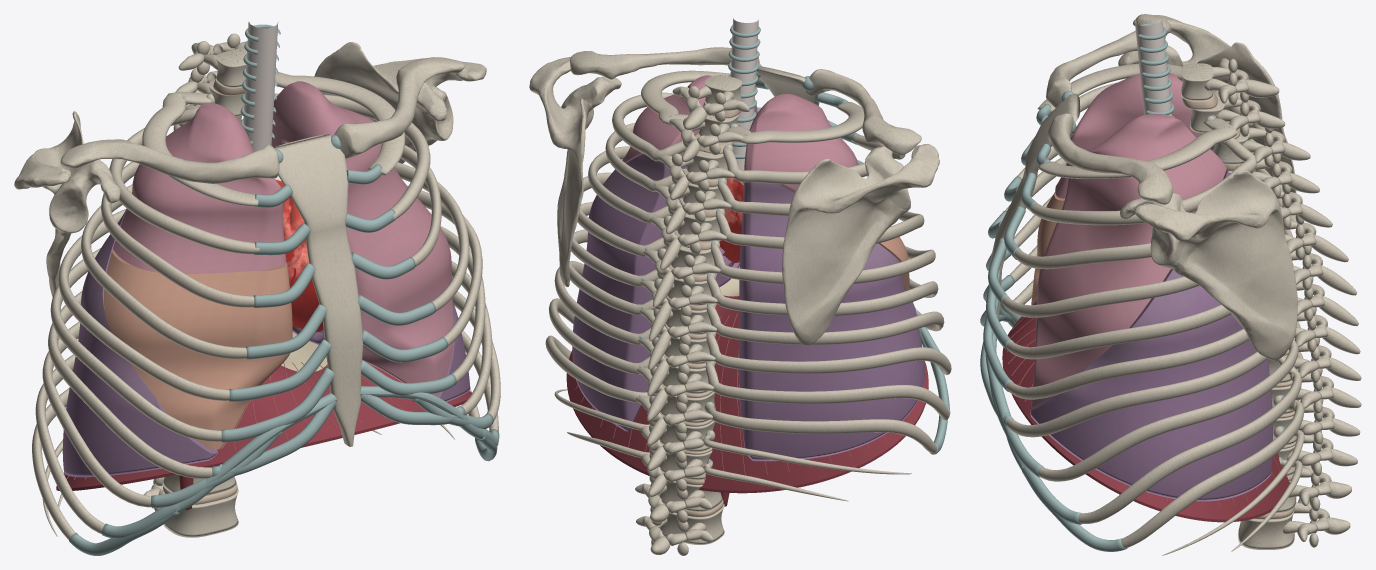
Rendered from torax-apices-nivelados.glb.
3 renders of one model, left to right at view 1: azimuth 30°, elevation 25°; view 2: azimuth 150°, elevation 25°; view 3: azimuth 270°, elevation 25°, orthographic. The views are drawn at different scales.
Parts seen in each view (by area): view 1: lobo_medio_D, lobo_superior_E, lobo_superior_D, caixa_toracica_osso, lobo_inferior_D, coluna_osso, diafragma_diafragma, escapula_D, escapula_E, clavicula_D, clavicula_E, costela_articulada_D_5_osso (+39 smaller); view 2: coluna_osso, lobo_inferior_D, escapula_D, lobo_inferior_E, diafragma_diafragma, escapula_E, lobo_superior_D, costela_articulada_D_9_osso, costela_articulada_D_8_osso, costela_articulada_D_10_osso, costela_articulada_D_7_osso, clavicula_E (+26 smaller); view 3: coluna_osso, lobo_inferior_E, lobo_superior_E, escapula_E, diafragma_diafragma, costela_articulada_E_8_osso, lobo_superior_D, escapula_D, costela_articulada_E_7_osso, costela_articulada_E_9_osso, costela_articulada_E_6_osso, clavicula_E (+23 smaller).
Boxes of the visible parts, x1,y1,x2,y2 form: lobo_medio_D: [104, 251, 292, 449]; lobo_superior_E: [271, 81, 453, 395]; lobo_superior_D: [113, 102, 286, 273]; caixa_toracica_osso: [274, 134, 363, 446]; lobo_inferior_D: [62, 208, 217, 477]; coluna_osso: [143, 33, 246, 537]; diafragma_diafragma: [56, 363, 471, 509]; escapula_D: [14, 111, 120, 296]; escapula_E: [314, 42, 486, 163]; clavicula_D: [60, 139, 279, 183]; clavicula_E: [334, 57, 464, 158]; costela_articulada_D_5_osso: [58, 209, 229, 400]; coluna_osso: [635, 75, 749, 555]; lobo_inferior_D: [738, 182, 924, 461]; escapula_D: [782, 144, 939, 345]; lobo_inferior_E: [572, 154, 739, 431]; diafragma_diafragma: [566, 295, 928, 506]; escapula_E: [529, 57, 621, 287]; lobo_superior_D: [744, 94, 857, 192]; costela_articulada_D_9_osso: [705, 361, 949, 420]; costela_articulada_D_8_osso: [706, 332, 951, 374]; costela_articulada_D_10_osso: [704, 402, 937, 453]; costela_articulada_D_7_osso: [706, 303, 944, 344]; clavicula_E: [570, 47, 759, 80]; coluna_osso: [1181, 58, 1361, 549]; lobo_inferior_E: [1030, 170, 1272, 501]; lobo_superior_E: [1031, 113, 1226, 407]; escapula_E: [1120, 170, 1297, 360]; diafragma_diafragma: [1002, 302, 1289, 522]; costela_articulada_E_8_osso: [1038, 339, 1298, 481]; lobo_superior_D: [1055, 73, 1211, 198]; escapula_D: [1118, 15, 1296, 203]; costela_articulada_E_7_osso: [1006, 351, 1267, 437]; costela_articulada_E_9_osso: [1078, 356, 1301, 523]; costela_articulada_E_6_osso: [1006, 328, 1249, 399]; clavicula_E: [1047, 113, 1172, 204].
Size of the model in its own units: 0.3052 by 0.3483 by 0.231.
14 materials, 2 textured.
